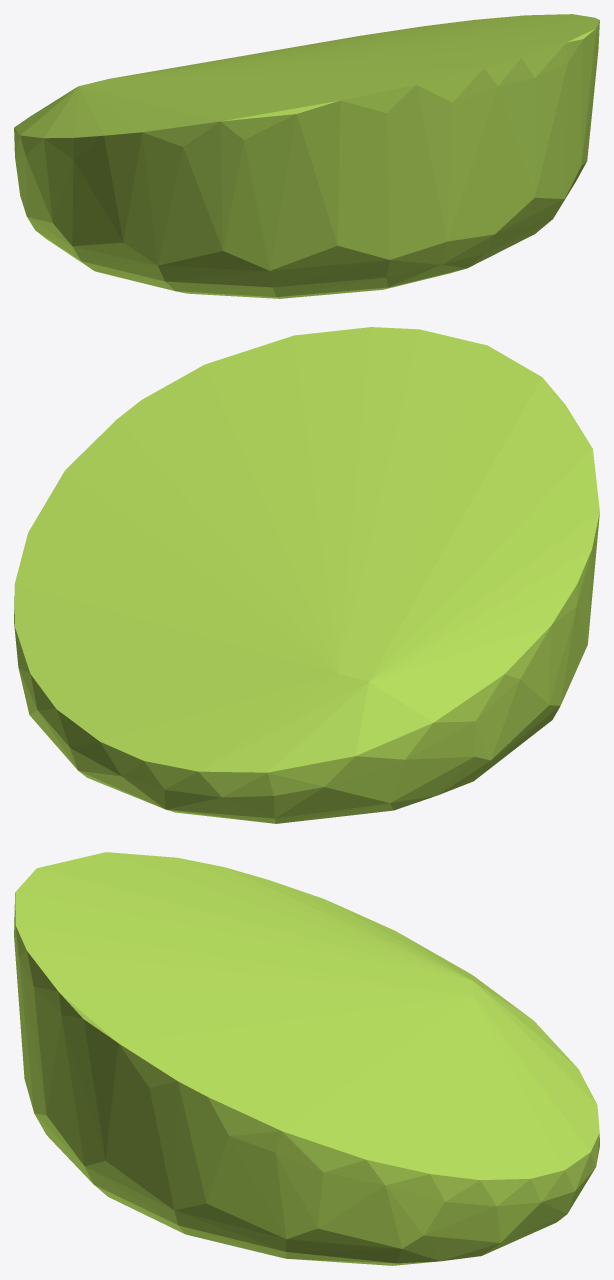
The model's file is ur10_e_link_5_coll_1.dae.
3 renders of one model, top to bottom at view 1: azimuth 30°, elevation 25°; view 2: azimuth 150°, elevation 25°; view 3: azimuth 270°, elevation 25°, orthographic.
Parts seen in each view (by area): view 1: node; view 2: node; view 3: node.
Part boxes in pixels (box(x1,y1,x2,y2)): node: box(14, 14, 599, 298); node: box(14, 327, 599, 823); node: box(14, 852, 599, 1265).
Bounding box in the file's own units: 0.0911 × 0.0468 × 0.0909.
